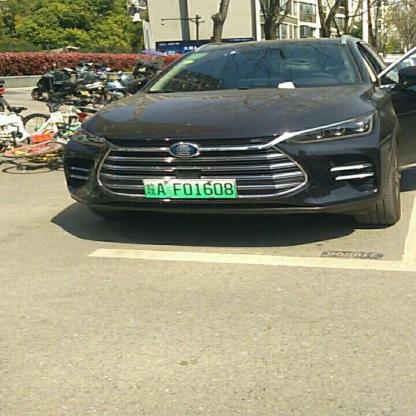lp: (143, 179, 236, 198)
